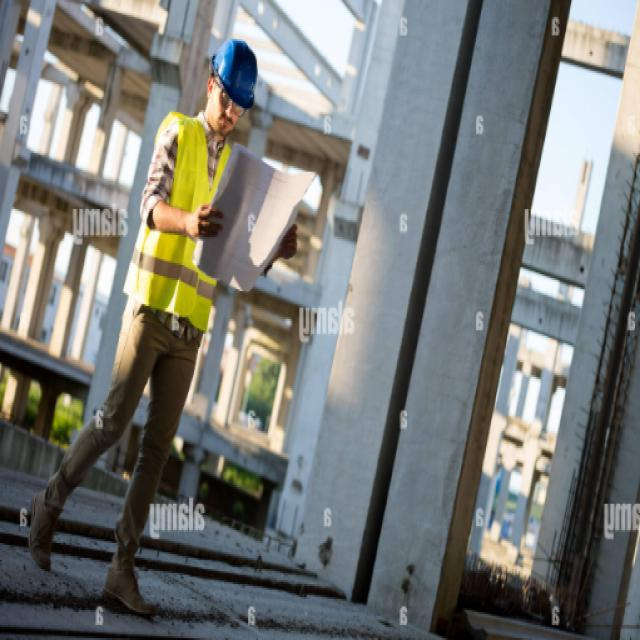boots: (21, 492, 157, 626)
helmet: (202, 38, 262, 145)
vest: (122, 108, 256, 340)
